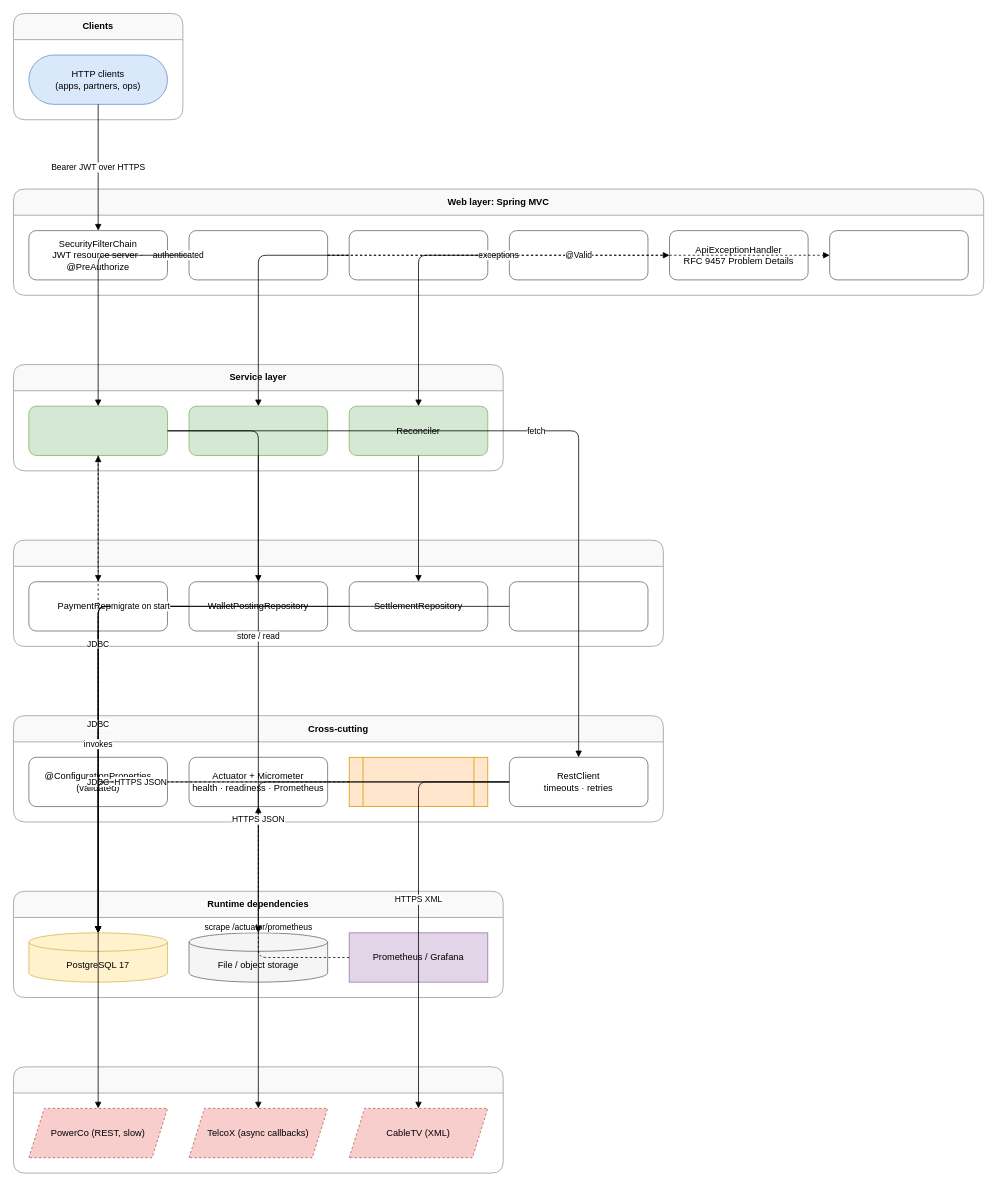
This 997x1187 diagram has some shape labels left out. Here are the shapes that lost their labels. From the top down, the box of each, then its label:
(188, 230, 328, 280): BillPaymentController
(348, 230, 488, 280): CallbackController
(509, 230, 648, 280): ReconciliationController
(829, 230, 968, 280): Bean Validation (DTO records)
(28, 405, 167, 455): BillPaymentService (state machine · wallet)
(188, 405, 328, 455): BillerAdapters (bulkhead · breaker per biller)
(13, 539, 663, 646): Persistence
(509, 581, 648, 631): Flyway migrations ddl-auto=validate
(348, 757, 488, 807): Scheduler resolve UNKNOWN payments
(13, 1066, 503, 1173): External
